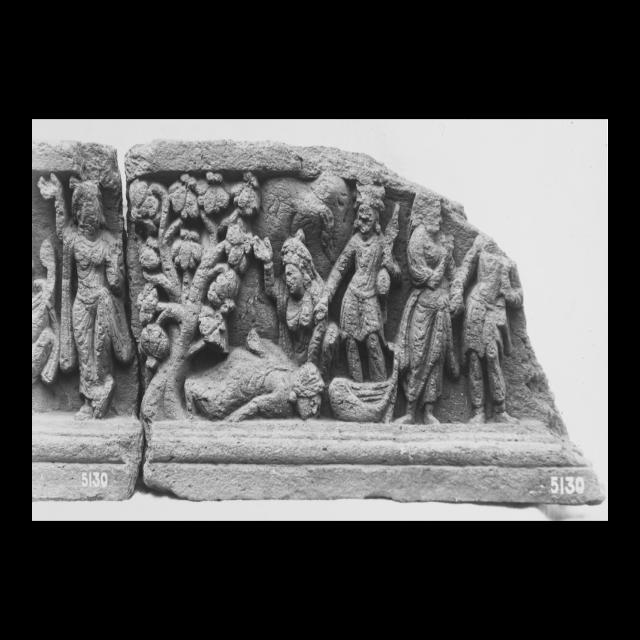buddha-sleeping: (184, 329, 325, 420)
